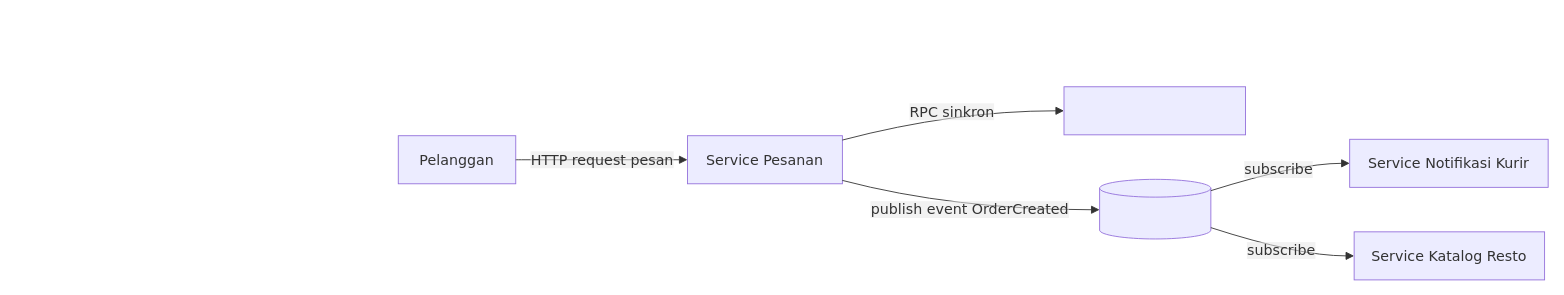
This 1564x295 diagram has some shape labels left out. Each missing label, with the box of its shape:
Message Broker: (1099, 178, 1211, 239)
Service Pembayaran: (1063, 86, 1246, 135)
